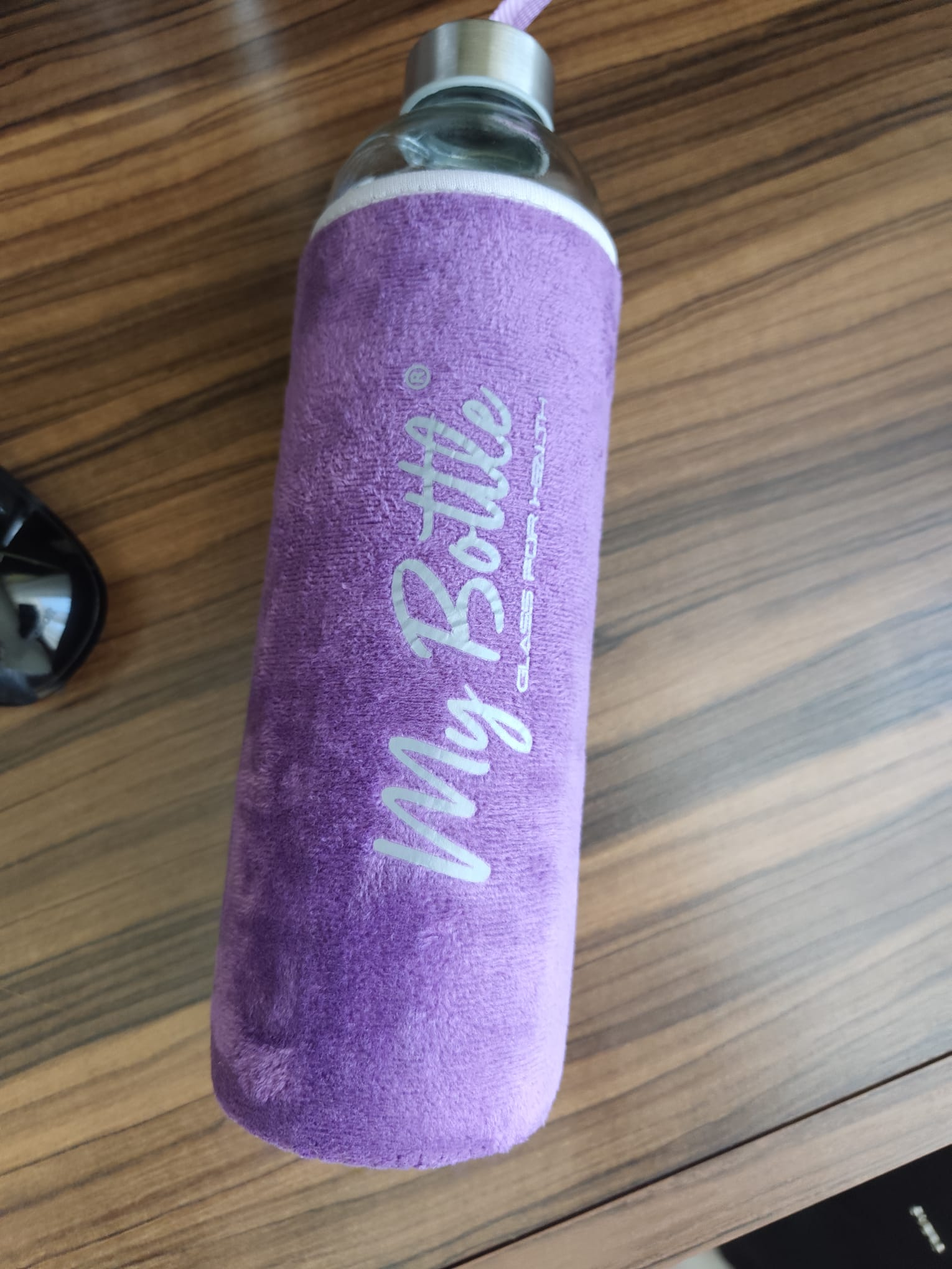su_sisesi: (202, 0, 630, 1170)
